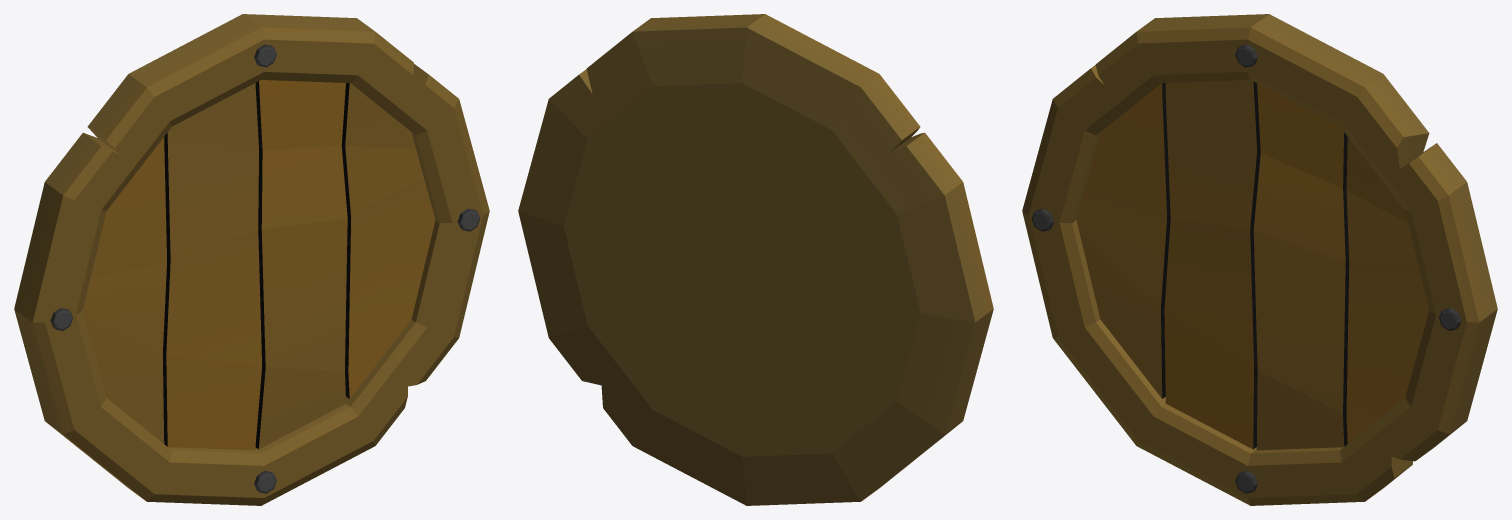
The model's file is shield_1.fbx.
3 views of the same model, side by side, from view 1: azimuth 30°, elevation 25°; view 2: azimuth 150°, elevation 25°; view 3: azimuth 330°, elevation 25° (orthographic).
Visible parts, largest first — view 1: shield_1; view 2: shield_1; view 3: shield_1.
Part boxes in pixels (x1,y1,x2,y2): shield_1: (14, 14, 489, 505); shield_1: (518, 14, 993, 505); shield_1: (1022, 14, 1497, 505).
Bounding box in the file's own units: 0.5055 × 0.5055 × 0.0551.
